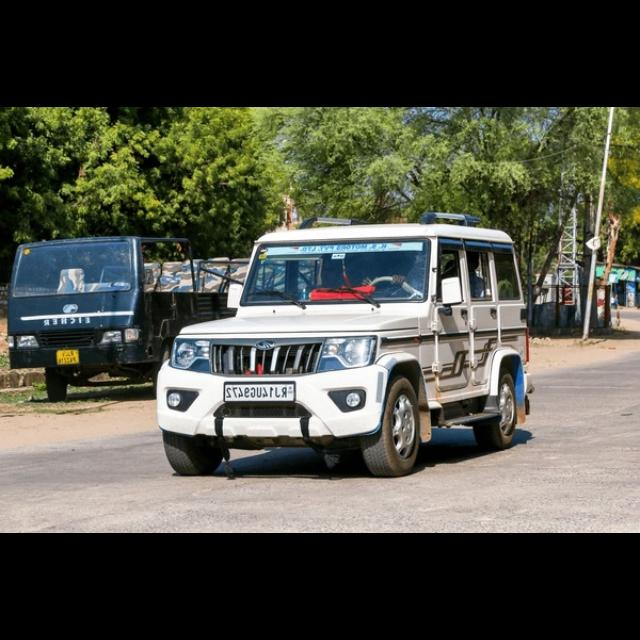number-plate: (227, 383, 298, 402), (58, 351, 81, 366)
vehicles: (162, 210, 532, 477), (6, 235, 231, 401)
